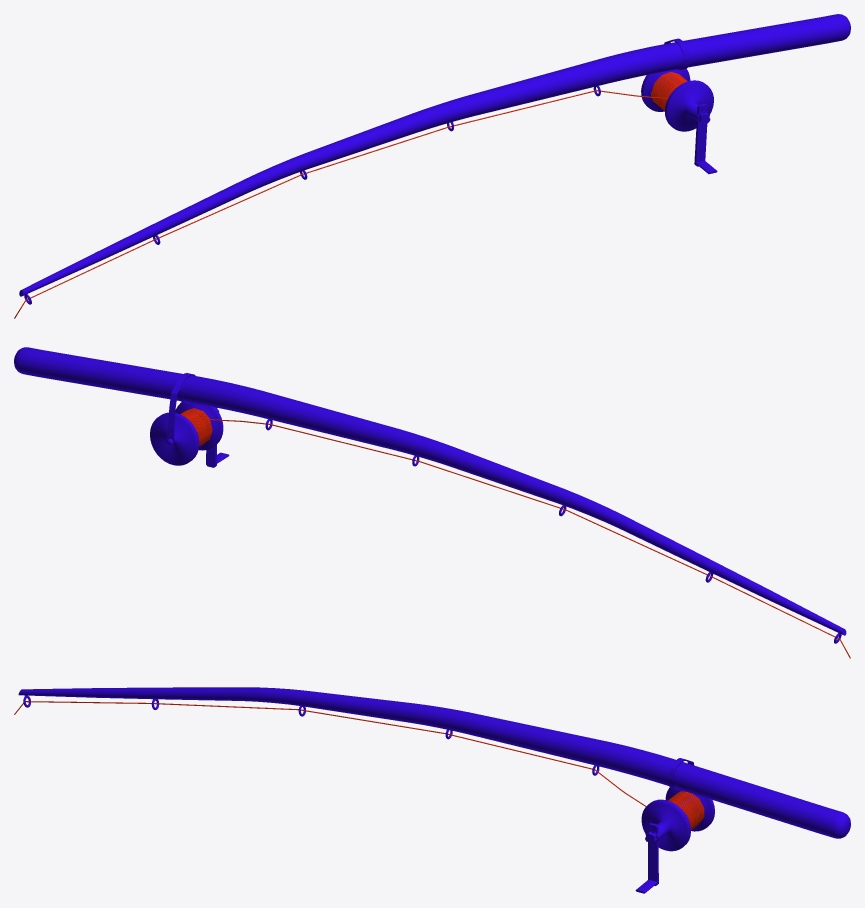
Rendered from fishingrod.fbx.
3 renders of one model, top to bottom at view 1: azimuth 30°, elevation 25°; view 2: azimuth 150°, elevation 25°; view 3: azimuth 330°, elevation 25°, orthographic.
Visible parts, largest first — view 1: Cylinder.002; view 2: Cylinder.002; view 3: Cylinder.002.
Part boxes in pixels (box(x1,y1,x2,y2)): Cylinder.002: box(14, 14, 850, 318); Cylinder.002: box(14, 347, 850, 658); Cylinder.002: box(14, 687, 850, 893).
Size of the model in its own units: 1.79 by 0.2443 by 0.201.
